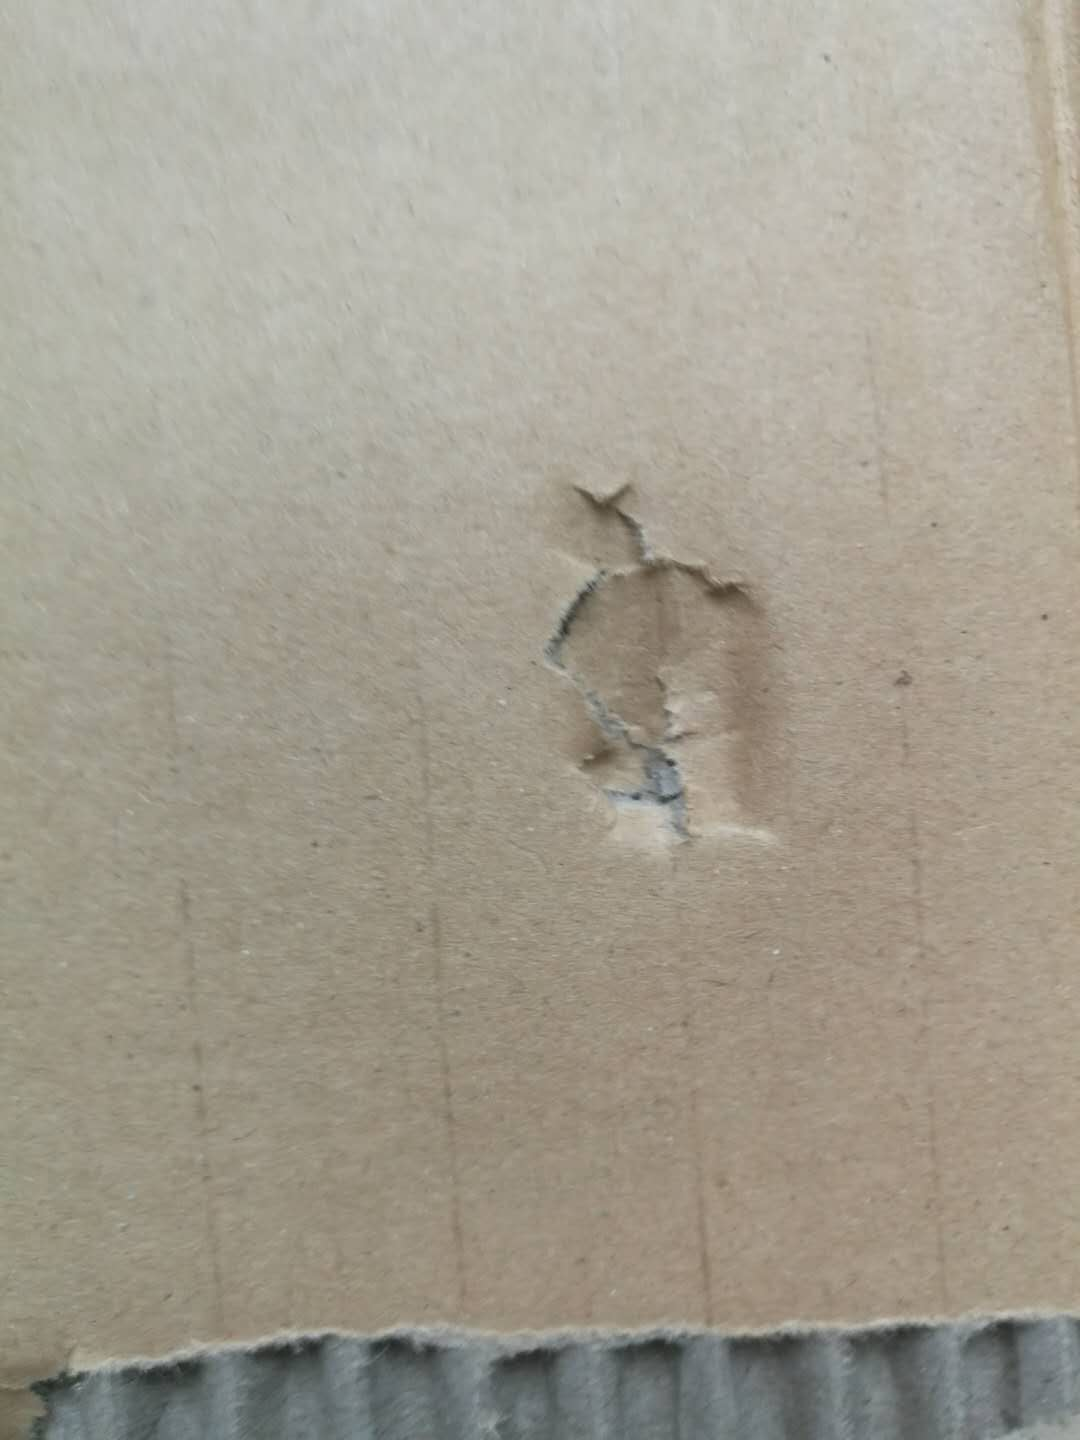defect: (1, 1267, 1080, 1440), (491, 422, 849, 921), (974, 5, 1080, 427)
